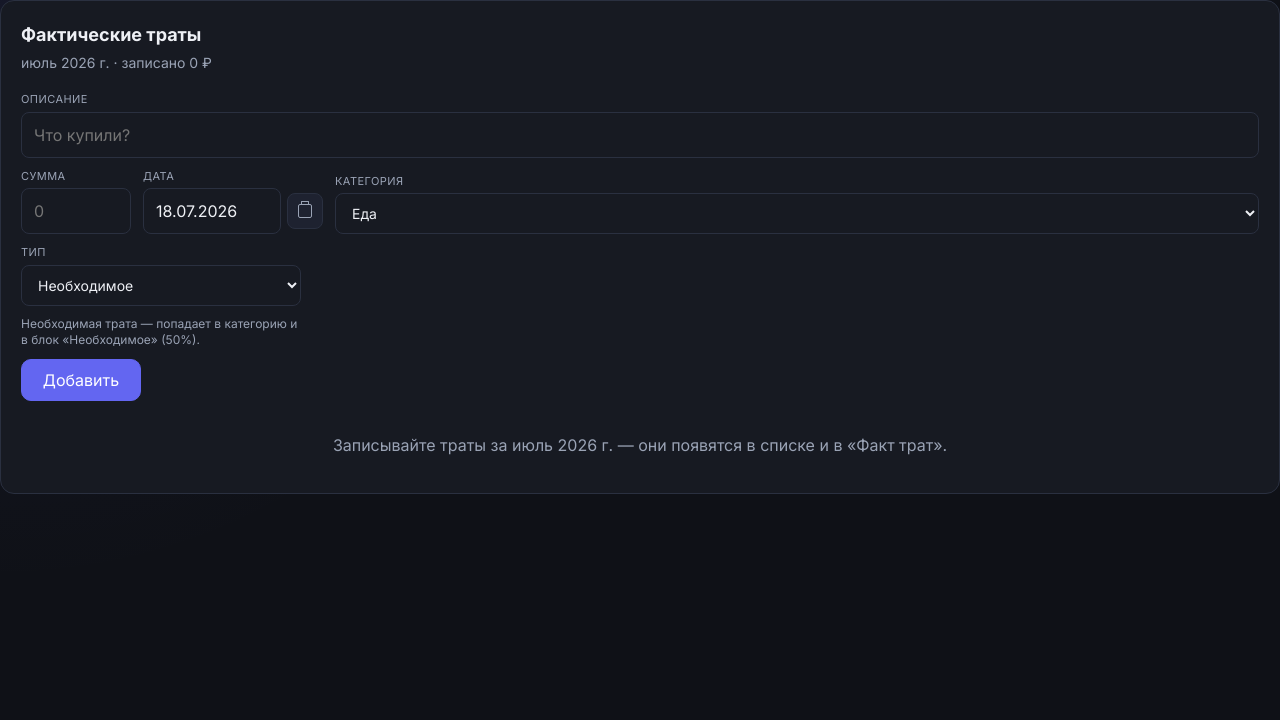
Test: ActualSpendingPanel › shows validation error for empty form
Click the button "Добавить".
click(81, 380)  # box [21,359,141,401]
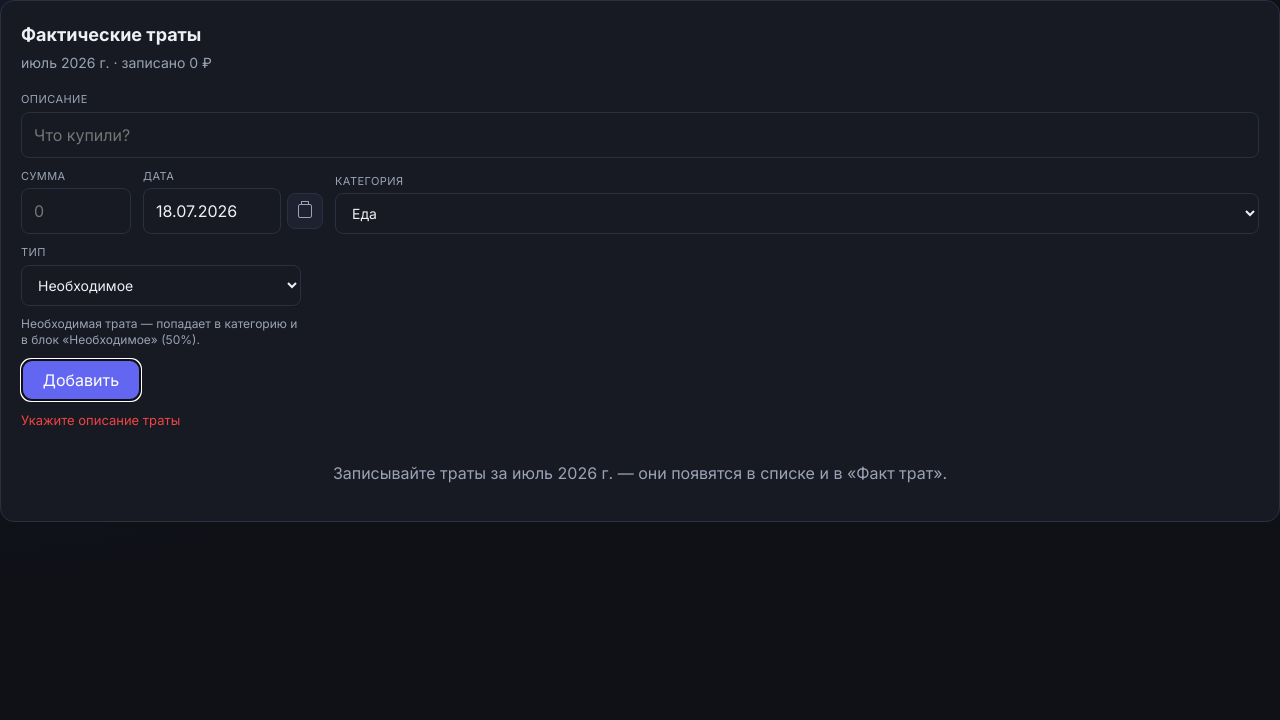
Expected: the text "Укажите описание траты" is shown, [21,412,180,428]
